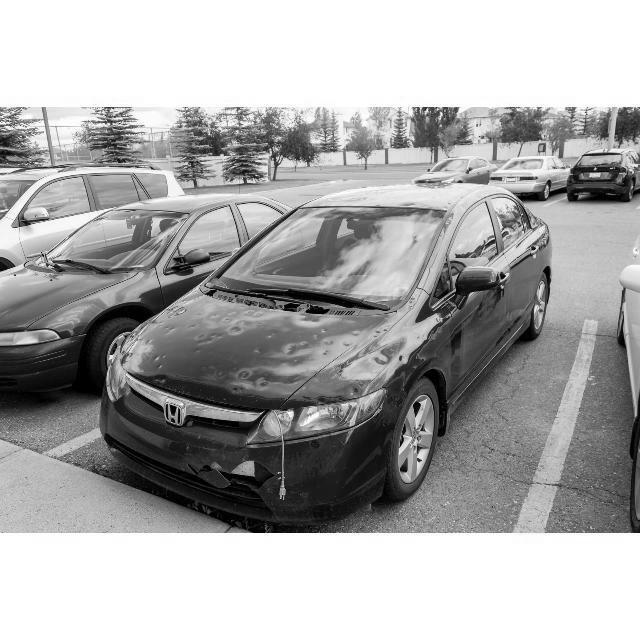bonnet-dent: (124, 295, 379, 393)
front-bumper-dent: (90, 407, 358, 509)
